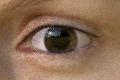eye: (45, 28, 78, 53)
